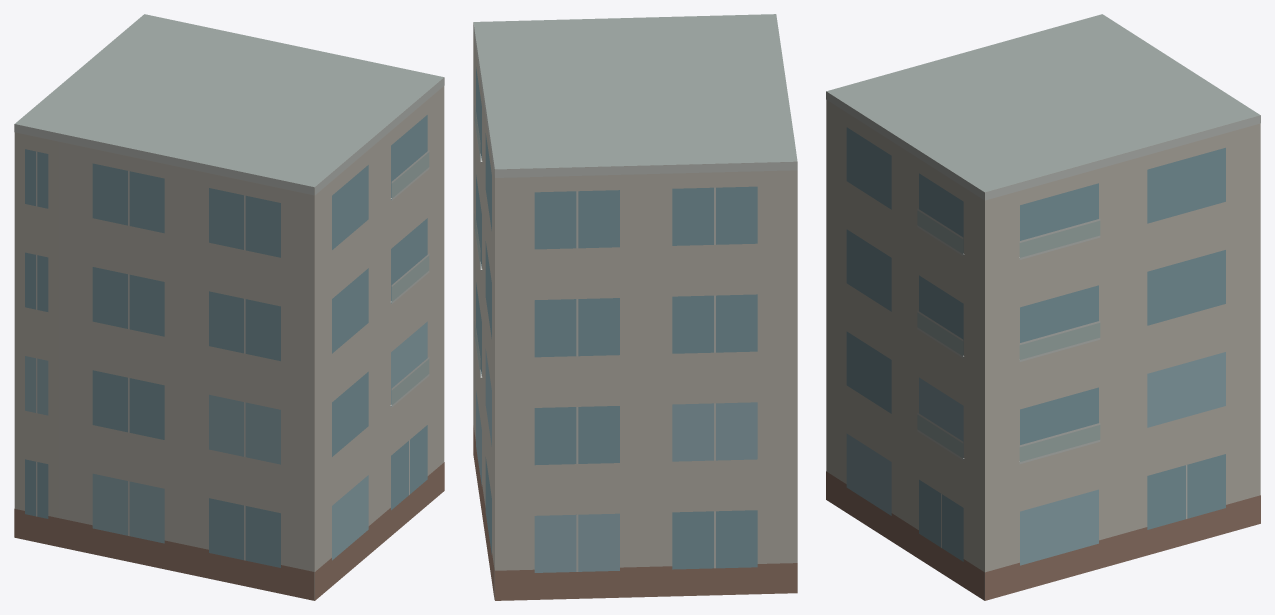
Rendered from residential-ab9412a7-8fe5-4960-a4d9-625dc2bd2b2e.glb.
3 renders of one model, left to right at view 1: azimuth 30°, elevation 25°; view 2: azimuth 150°, elevation 25°; view 3: azimuth 270°, elevation 25°, orthographic. The views are drawn at different scales.
Visible parts, largest first — view 1: residential-ab9412a7-8fe5-4960-a4d9-625dc2bd2b2e.tmp; view 2: residential-ab9412a7-8fe5-4960-a4d9-625dc2bd2b2e.tmp; view 3: residential-ab9412a7-8fe5-4960-a4d9-625dc2bd2b2e.tmp.
Part boxes in pixels (left/top/right/bottom): residential-ab9412a7-8fe5-4960-a4d9-625dc2bd2b2e.tmp: left=14, top=14, right=444, bottom=600; residential-ab9412a7-8fe5-4960-a4d9-625dc2bd2b2e.tmp: left=473, top=14, right=797, bottom=600; residential-ab9412a7-8fe5-4960-a4d9-625dc2bd2b2e.tmp: left=826, top=14, right=1260, bottom=600.
Bounding box in the file's own units: 11.44 × 12.2 × 11.78.
